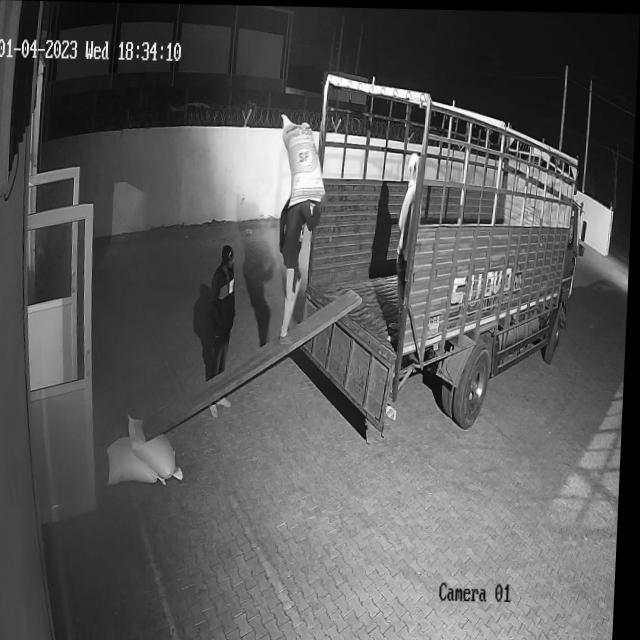sack: (280, 113, 329, 206), (128, 413, 189, 477), (109, 435, 173, 486)
